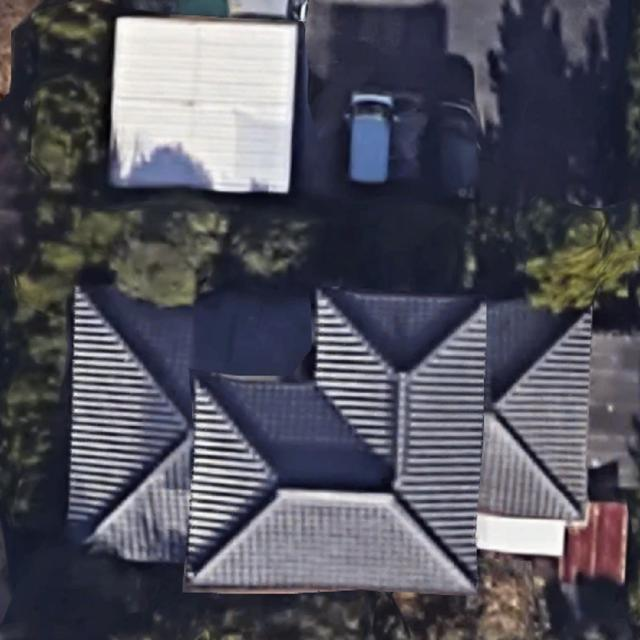Batiment: (68, 287, 591, 595), (110, 18, 298, 193)
